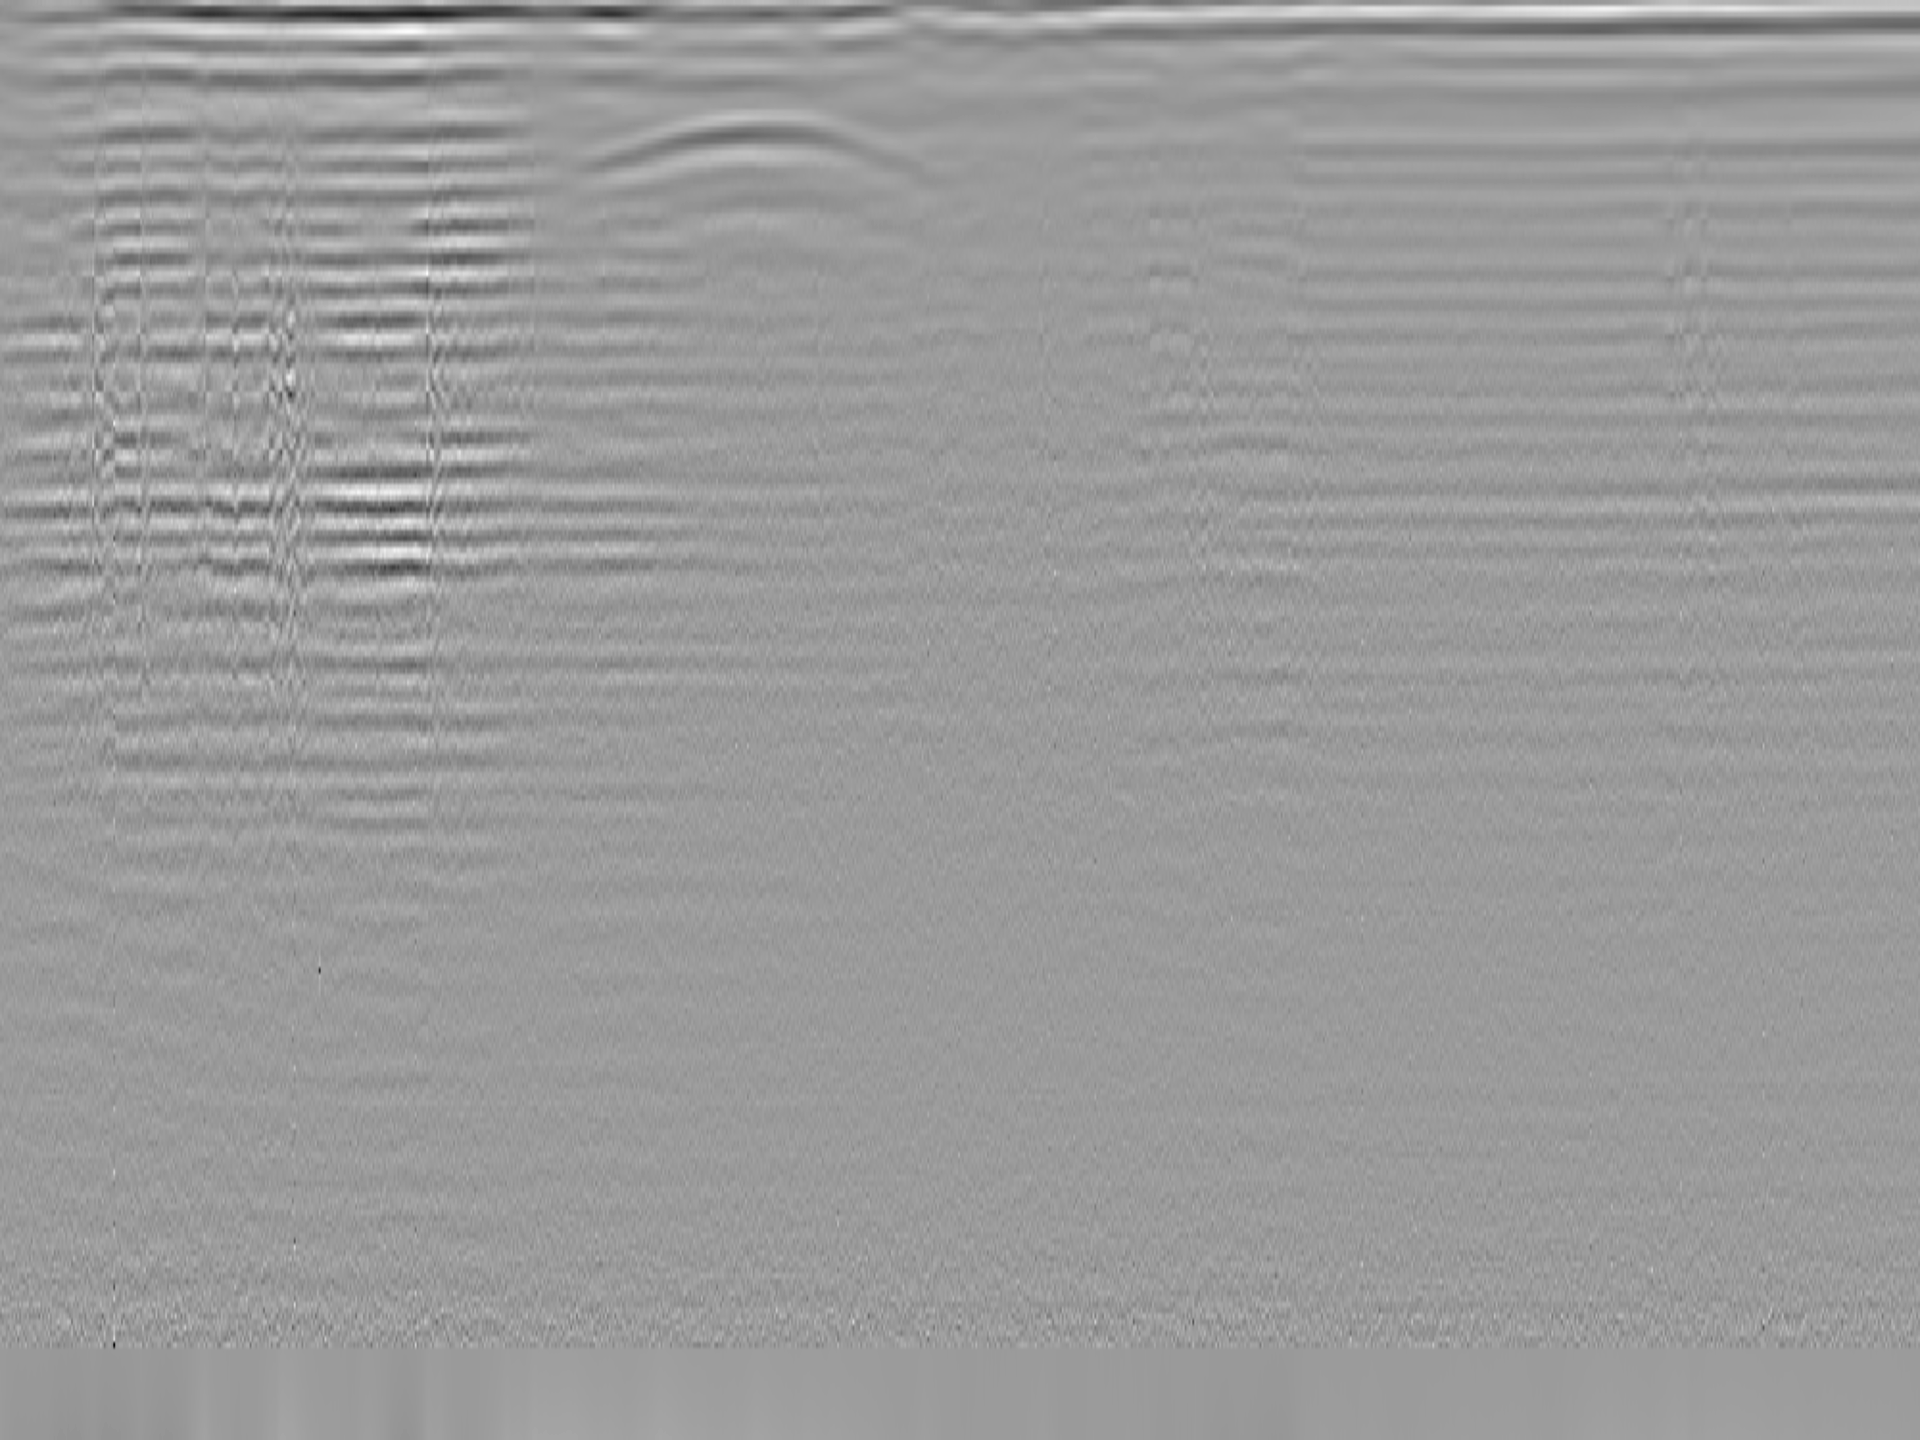Tunnel: (578, 106, 951, 182)
